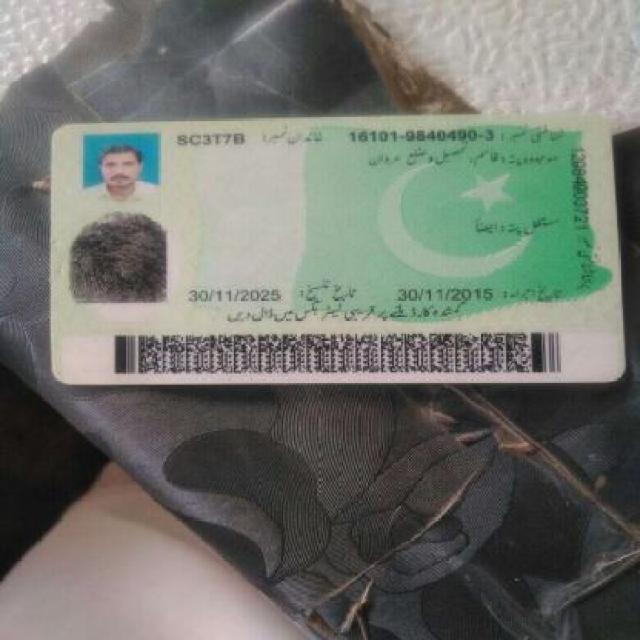Back: (28, 111, 632, 389)
